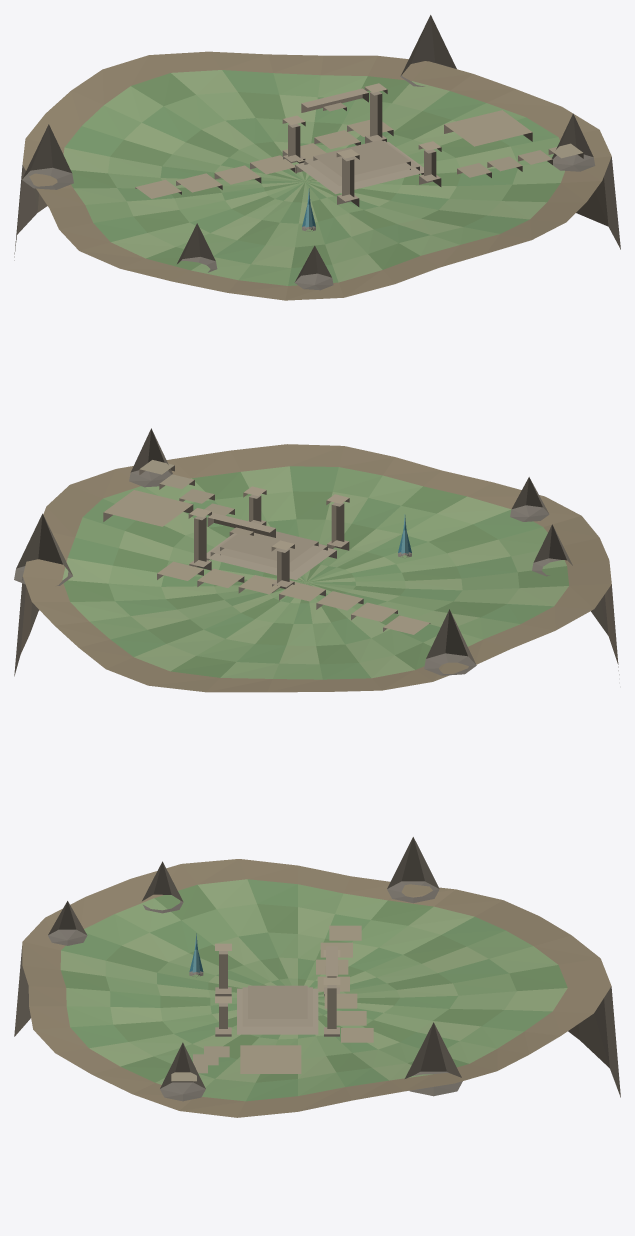
Rendered from echo-isles.glb.
3 views of the same model, one above another, from view 1: azimuth 30°, elevation 25°; view 2: azimuth 150°, elevation 25°; view 3: azimuth 270°, elevation 25° (orthographic).
Parts seen in each view (by area): view 1: Echo Isles - original low-poly blockout; view 2: Echo Isles - original low-poly blockout; view 3: Echo Isles - original low-poly blockout.
Part boxes in pixels (x1,y1,x2,y2): Echo Isles - original low-poly blockout: [14, 15, 620, 300]; Echo Isles - original low-poly blockout: [14, 428, 619, 692]; Echo Isles - original low-poly blockout: [14, 837, 620, 1117].
Bounding box in the file's own units: 91.45 × 27.96 × 89.56.
